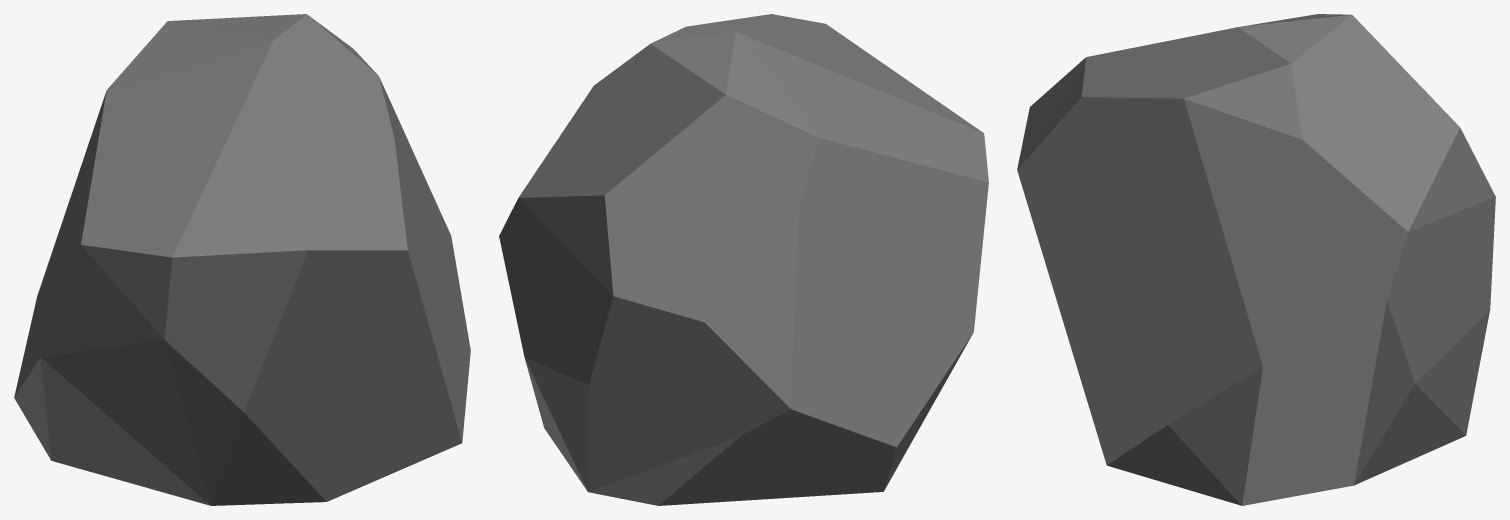
The model's file is rock_01.gltf.
3 views of the same model, side by side, from view 1: azimuth 30°, elevation 25°; view 2: azimuth 150°, elevation 25°; view 3: azimuth 270°, elevation 25° (orthographic). The views are drawn at different scales.
Visible parts, largest first — view 1: 立方体; view 2: 立方体; view 3: 立方体.
Part boxes in pixels (box(x1,y1,x2,y2)): 立方体: box(14, 14, 470, 505); 立方体: box(499, 14, 988, 505); 立方体: box(1017, 14, 1495, 505).
Bounding box in the file's own units: 4.12 × 3.77 × 4.03.
Materials: 1 (1 with a texture image).
